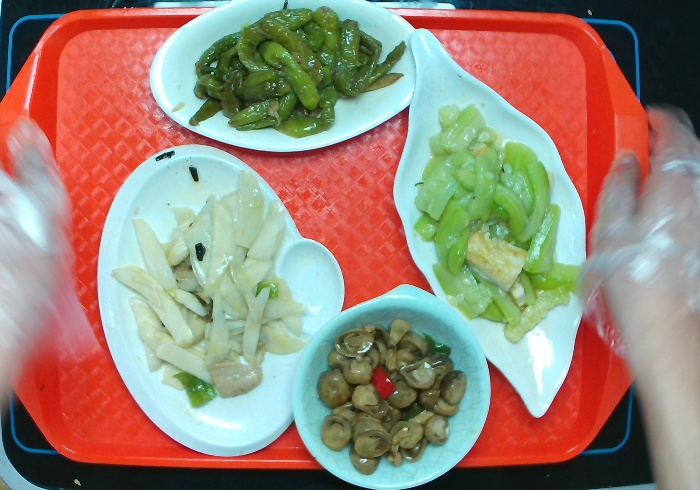RJxy-Bai_Se_Tuo_Yuan: (139, 1, 431, 153)
RJxy-Shu_Ye_Pan: (380, 26, 595, 431)
RJxy-Xiao_Jiao_Yuan_Wan: (291, 284, 498, 490)
RJxy-Zhan_Liao_Pan: (95, 138, 348, 462)
